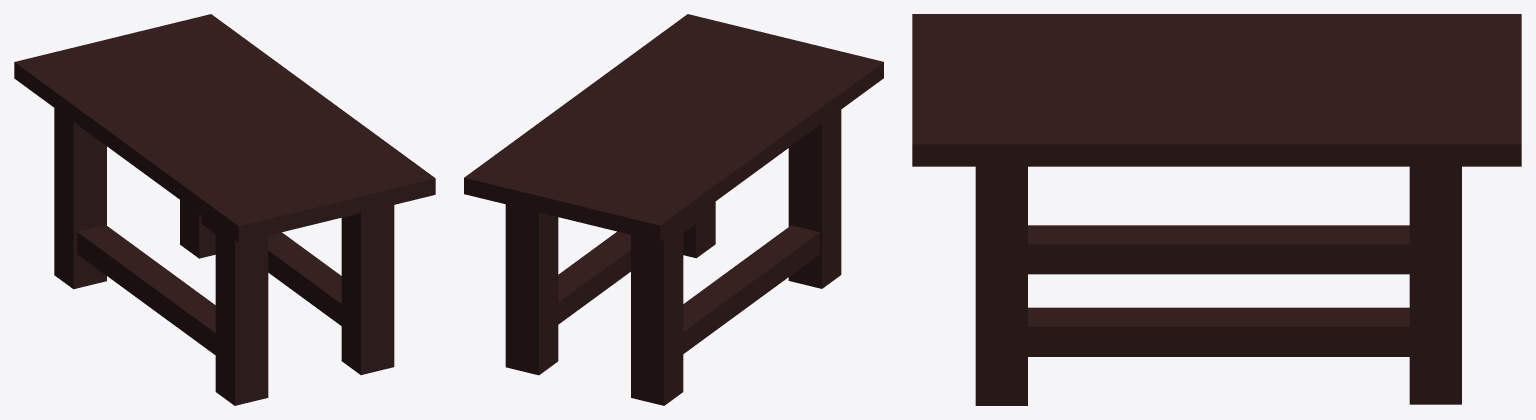
The model's file is table2.fbx.
3 views of the same model, side by side, from view 1: azimuth 30°, elevation 25°; view 2: azimuth 150°, elevation 25°; view 3: azimuth 270°, elevation 25° (orthographic). The views are drawn at different scales.
Visible parts, largest first — view 1: pCube13; view 2: pCube13; view 3: pCube13.
Boxes of the visible parts, <box> form: pCube13: <box>14,14,435,405</box>; pCube13: <box>464,14,883,405</box>; pCube13: <box>912,14,1521,405</box>.
Size of the model in its own units: 34.86 by 34.09 by 68.85.
